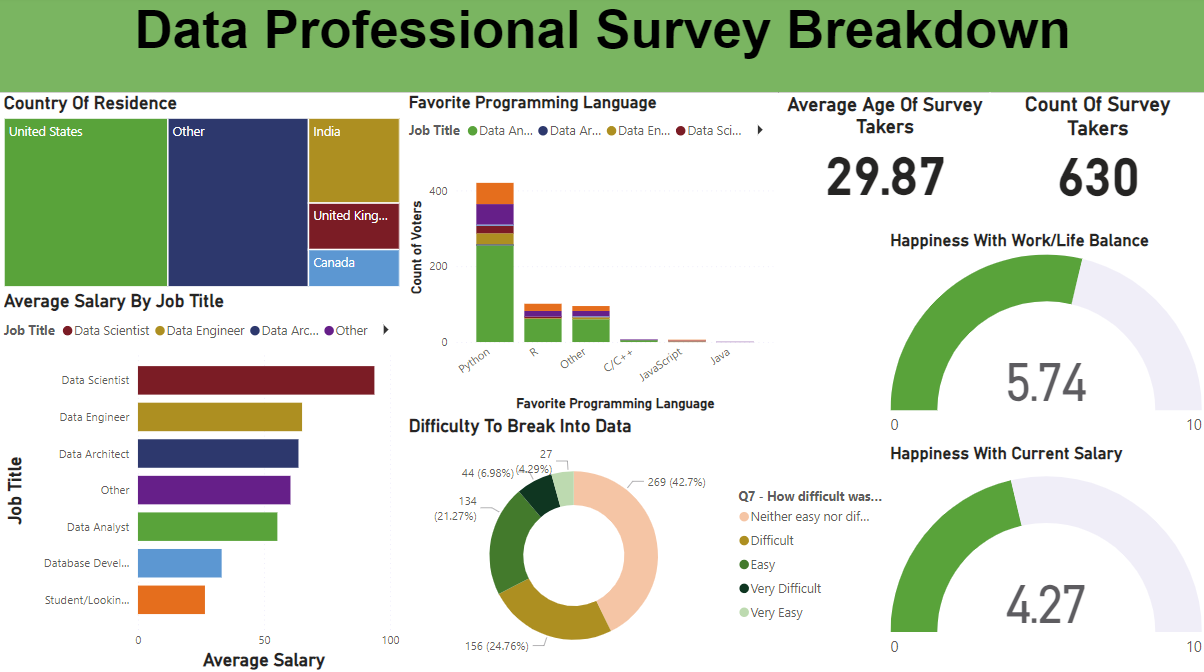

Layout of this report page (visuals, bound fields, positions):
{"tool":"powerbi","page":{"name":"Page 1","canvas":[1280,720],"ordinal":0},"visuals":[{"type":"textbox","box":[0,0,1280,103.3],"z":0},{"type":"card","title":"Count Of Survey Takers    ","fields":{"Values":["CountNonNull(Data Professional Survey.Unique ID)"]},"box":[1049.1,103.3,230.9,115.4],"z":1000},{"type":"card","title":"Average Age Of Survey Takers","fields":{"Values":["Avg(Data Professional Survey.Q10 - Current Age)"]},"box":[826.3,103.3,224.8,115.4],"z":2000},{"type":"barChart","title":"Average Salary By Job Title","fields":{"Category":["Data Professional Survey.Q1 - Which Title Best Fits your Current Role?.1"],"Y":["Avg(Data Professional Survey.Average Salary)"],"Series":["Data Professional Survey.Q1 - Which Title Best Fits your Current Role?.1"]},"box":[0,313.9,429.4,407.1],"z":3000},{"type":"columnChart","title":"Favorite Programming Language","fields":{"Series":["Data Professional Survey.Q1 - Which Title Best Fits your Current Role?.1"],"Category":["Data Professional Survey.Q5 - Favorite Programming Language.1.1"],"Y":["CountNonNull(Data Professional Survey.Unique ID)"]},"box":[429.4,103.3,397,342.3],"z":4000},{"type":"treemap","title":"Country Of Residence","fields":{"Values":["CountNonNull(Data Professional Survey.Q11 - Which Country do you live in?.1)"],"Group":["Data Professional Survey.Q11 - Which Country do you live in?.1"]},"box":[0,103.3,429.4,210.6],"z":5000},{"type":"gauge","title":"Happiness With Work/Life Balance","fields":{"Y":["Avg(Data Professional Survey.Q6 - How Happy are you in your Current Position with the following? (Work/Life Balance))"],"MinValue":["Min(Data Professional Survey.Q6 - How Happy are you in your Current Position with the following? (Work/Life Balance))"],"MaxValue":["Max(Data Professional Survey.Q6 - How Happy are you in your Current Position with the following? (Work/Life Balance))1"]},"box":[939.7,249.1,340.3,226.8],"z":6000},{"type":"gauge","title":"Happiness With Current Salary","fields":{"Y":["Avg(Data Professional Survey.Q6 - How Happy are you in your Current Position with the following? (Salary))"],"MinValue":["Min(Data Professional Survey.Q6 - How Happy are you in your Current Position with the following? (Salary))"],"MaxValue":["Max(Data Professional Survey.Q6 - How Happy are you in your Current Position with the following? (Salary))"]},"box":[939.7,475.9,340.3,245.1],"z":7000},{"type":"donutChart","title":"Difficulty To Break Into Data ","fields":{"Category":["Data Professional Survey.Q7 - How difficult was it for you to break into Data?"],"Y":["CountNonNull(Data Professional Survey.Q7 - How difficult was it for you to break into Data?)"]},"box":[429.4,445.6,510.4,275.4],"z":8000}]}

Visuals, with their boxes in screenshot pixels (x1, y1, x2, y2), scaled from the page's 1280x720 canvas onto the 1204x672 screenshot:
textbox: 0,0,1203,96
"Count Of Survey Takers    " card: 987,96,1203,204
"Average Age Of Survey Takers" card: 777,96,989,204
"Average Salary By Job Title" barChart: 0,293,404,671
"Favorite Programming Language" columnChart: 404,96,777,416
"Country Of Residence" treemap: 0,96,404,293
"Happiness With Work/Life Balance" gauge: 884,232,1203,444
"Happiness With Current Salary" gauge: 884,444,1203,671
"Difficulty To Break Into Data " donutChart: 404,416,884,671
